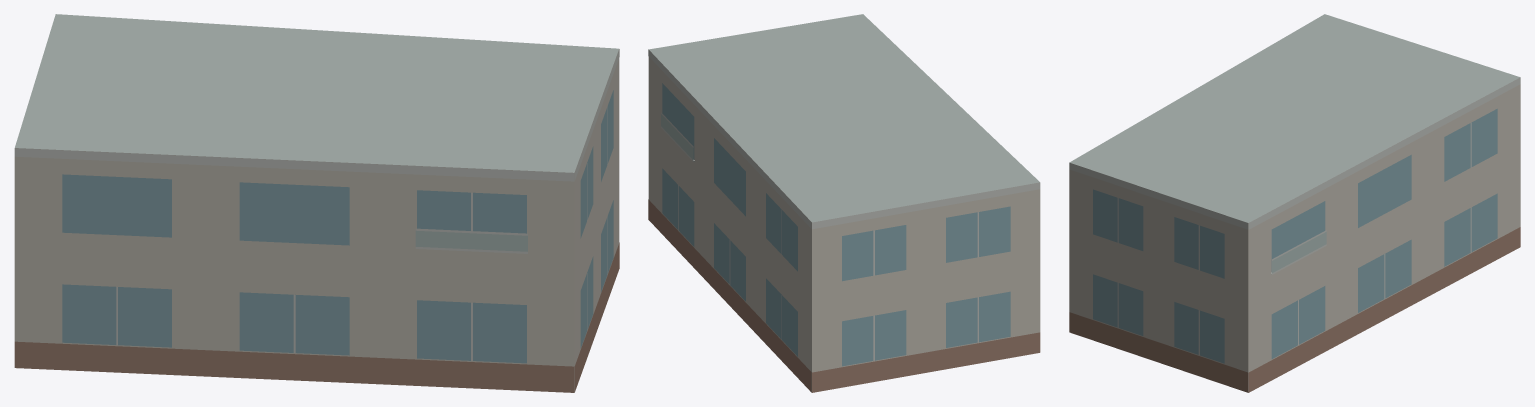
The model's file is survey-upis-32590152.glb.
The picture shows the model from 3 angles, left to right: view 1: azimuth 30°, elevation 25°; view 2: azimuth 150°, elevation 25°; view 3: azimuth 270°, elevation 25°; orthographic projection. The views are drawn at different scales.
Visible parts, largest first — view 1: survey-upis-32590152.tmp; view 2: survey-upis-32590152.tmp; view 3: survey-upis-32590152.tmp.
Part boxes in pixels (left/top/right/bottom): survey-upis-32590152.tmp: left=14, top=14, right=619, bottom=392; survey-upis-32590152.tmp: left=648, top=14, right=1040, bottom=392; survey-upis-32590152.tmp: left=1069, top=14, right=1520, bottom=392.
Size of the model in its own units: 16.12 by 6.1 by 14.71.
